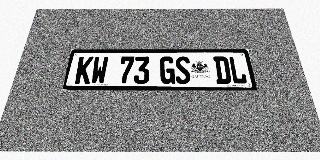3: (134, 56, 150, 84)
7: (118, 56, 135, 84)
D: (213, 56, 232, 84)
G: (160, 56, 175, 84)
K: (74, 56, 94, 84)
L: (228, 56, 248, 84)
S: (175, 56, 191, 84)
W: (90, 56, 109, 84)
